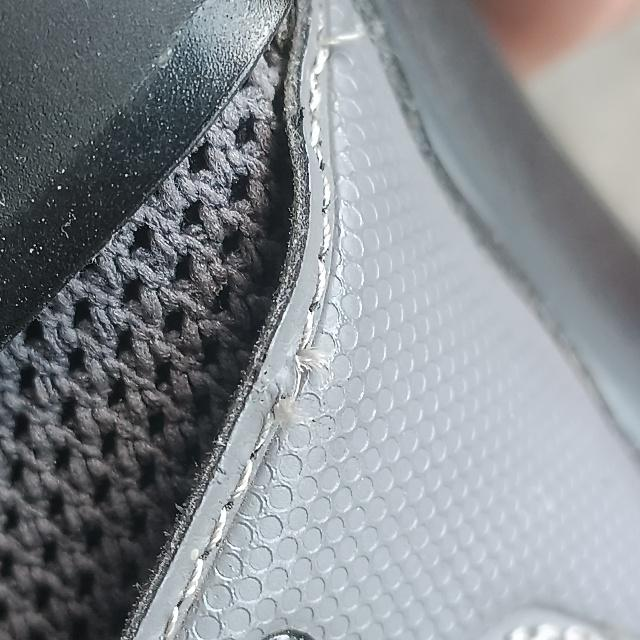broken: (262, 335, 326, 448)
